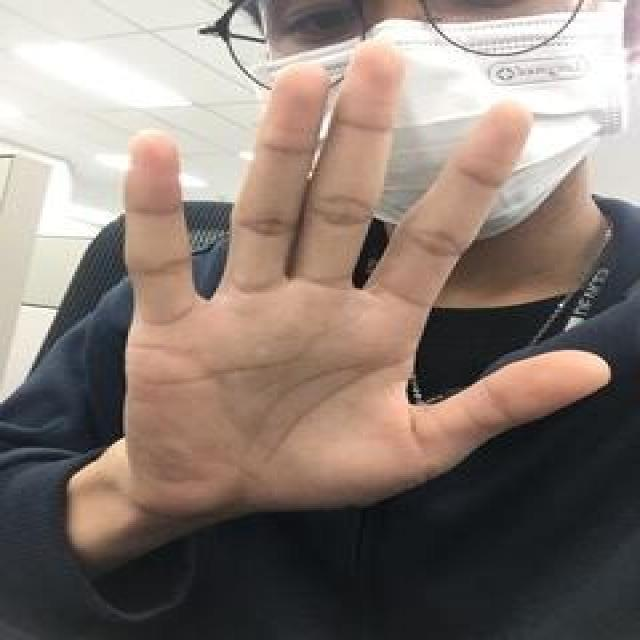hand: (120, 38, 614, 510)
